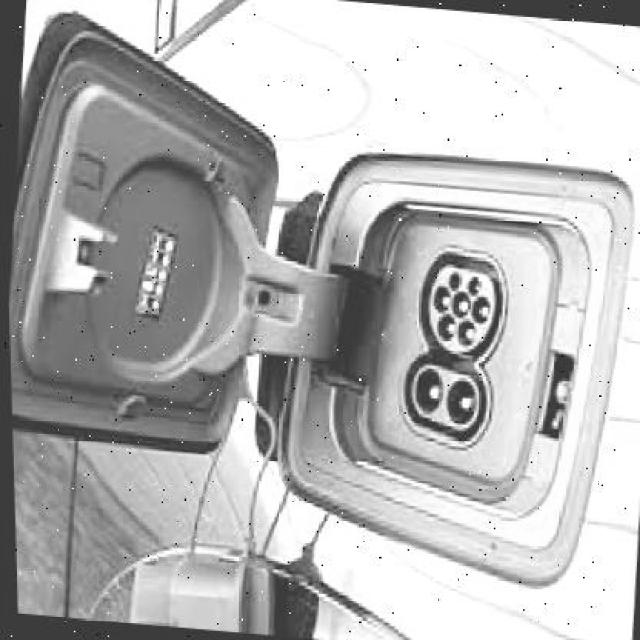CCS2: (372, 241, 528, 472)
